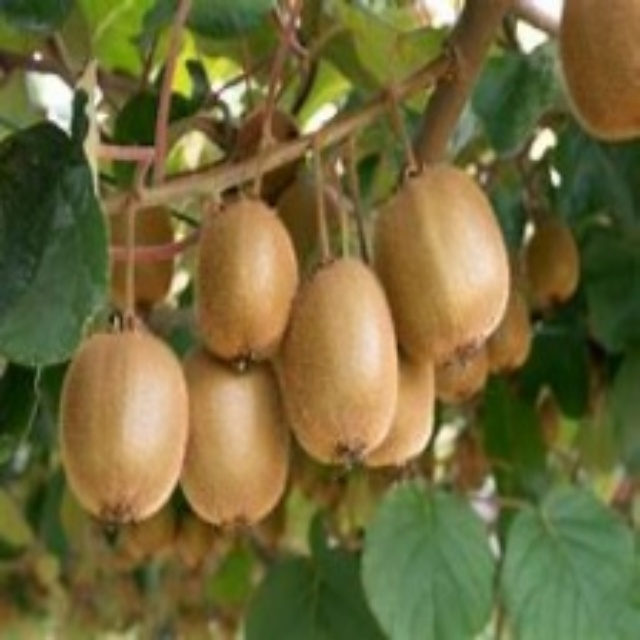kiwi: (375, 167, 508, 363), (275, 264, 399, 473), (60, 334, 178, 518), (185, 354, 294, 525), (199, 209, 286, 373), (554, 2, 639, 163)
